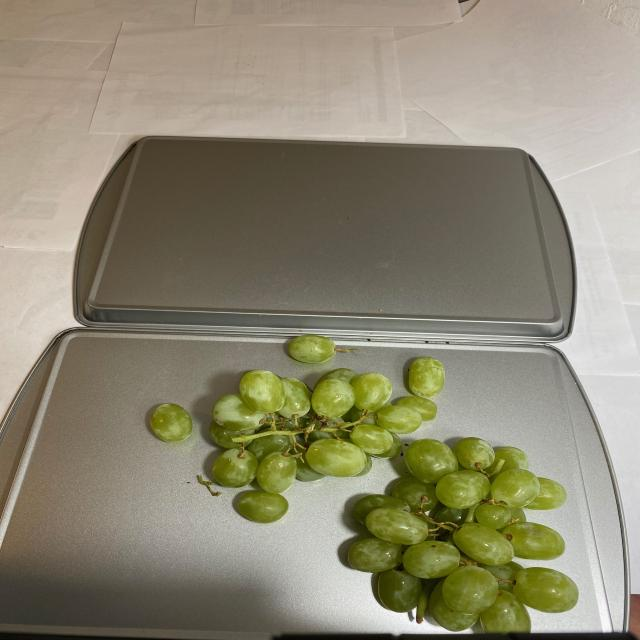grapes: (144, 334, 583, 632)
